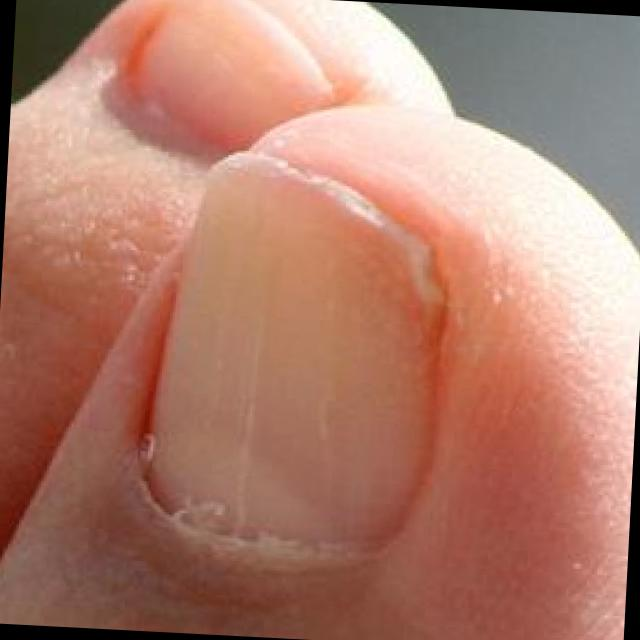Nail: (145, 155, 449, 547), (132, 0, 344, 153)
